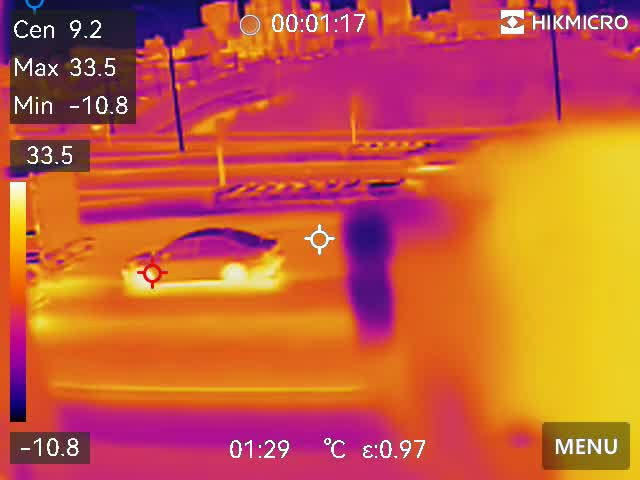smallCar: (119, 222, 291, 296)
